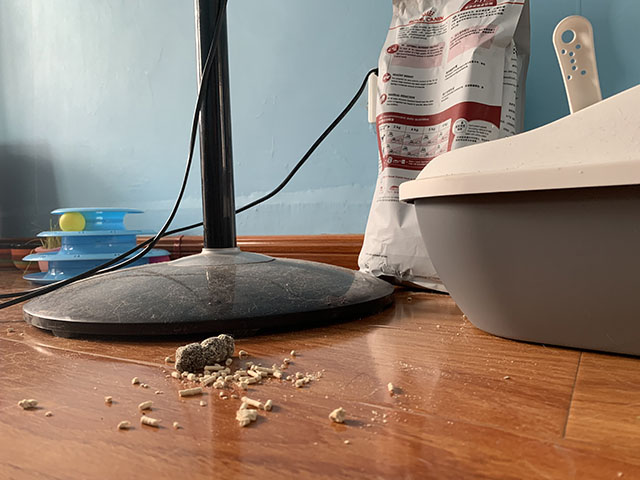feces: (174, 332, 237, 373)
wire: (1, 1, 380, 311)
